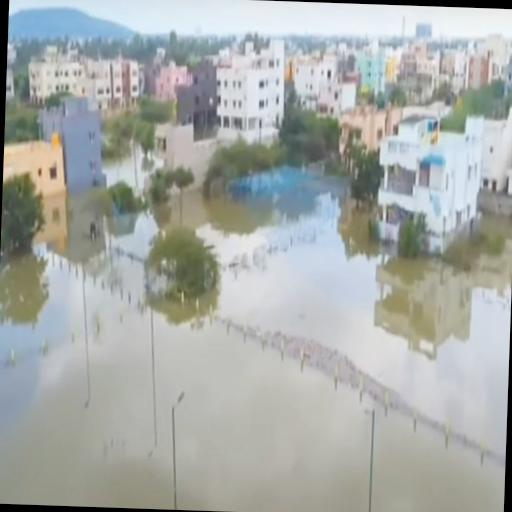flood: (0, 167, 512, 512)
house: (416, 114, 494, 255), (216, 34, 290, 142), (1, 136, 67, 234), (381, 99, 440, 187), (54, 107, 104, 207), (298, 58, 348, 106), (413, 49, 471, 84), (30, 60, 80, 100), (86, 58, 128, 99)
